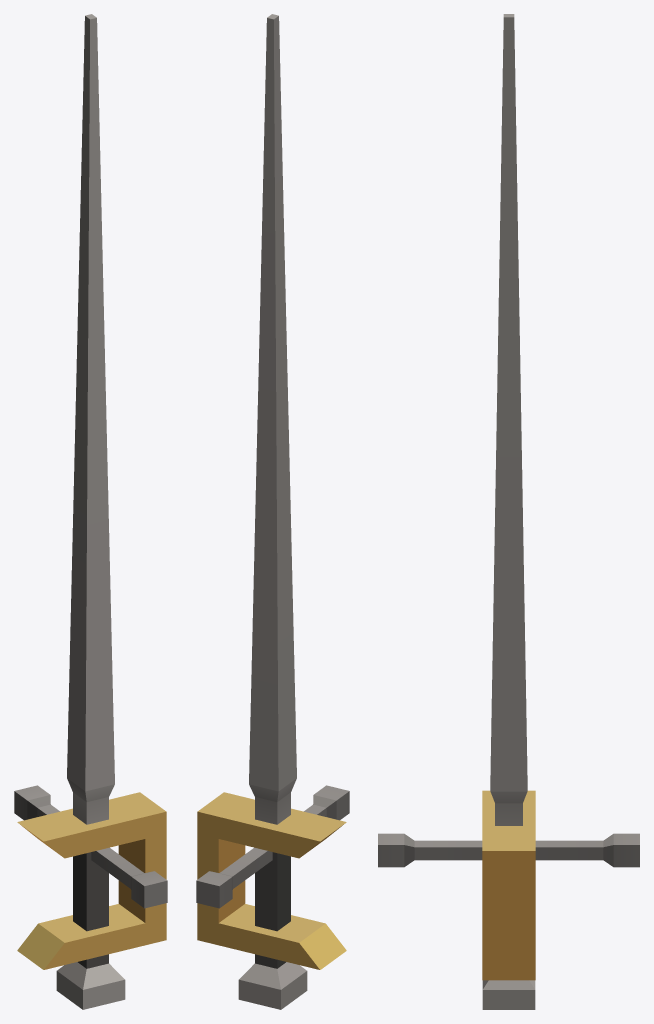
The model's file is Rapier.gltf.
3 renders of one model, left to right at view 1: azimuth 30°, elevation 25°; view 2: azimuth 150°, elevation 25°; view 3: azimuth 270°, elevation 25°, orthographic.
Visible parts, largest first — view 1: SF_Wep_Rapier_01; view 2: SF_Wep_Rapier_01; view 3: SF_Wep_Rapier_01.
Boxes of the visible parts, box(x1,y1,x2,y2) form: SF_Wep_Rapier_01: box(14, 14, 167, 1009); SF_Wep_Rapier_01: box(196, 14, 349, 1009); SF_Wep_Rapier_01: box(378, 14, 639, 1009).
Bounding box in the file's own units: 0.00337 × 0.0257 × 0.00619.
Materials: 1 (1 with a texture image).
